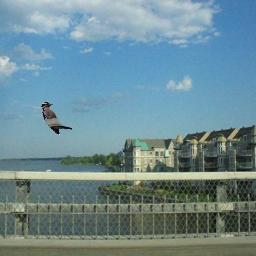Woodpecker: (41, 102, 72, 135)
